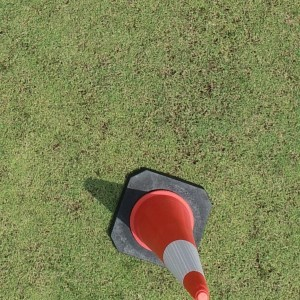traffic cone: (110, 169, 211, 300)
